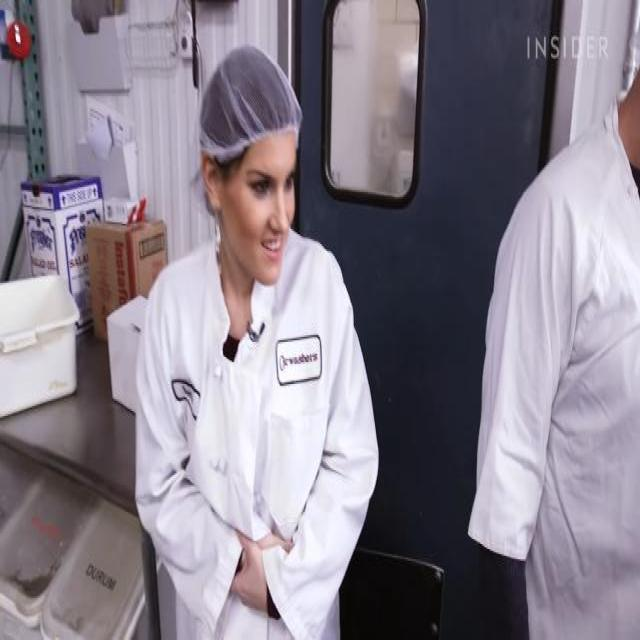bare_hand: (225, 531, 289, 623)
